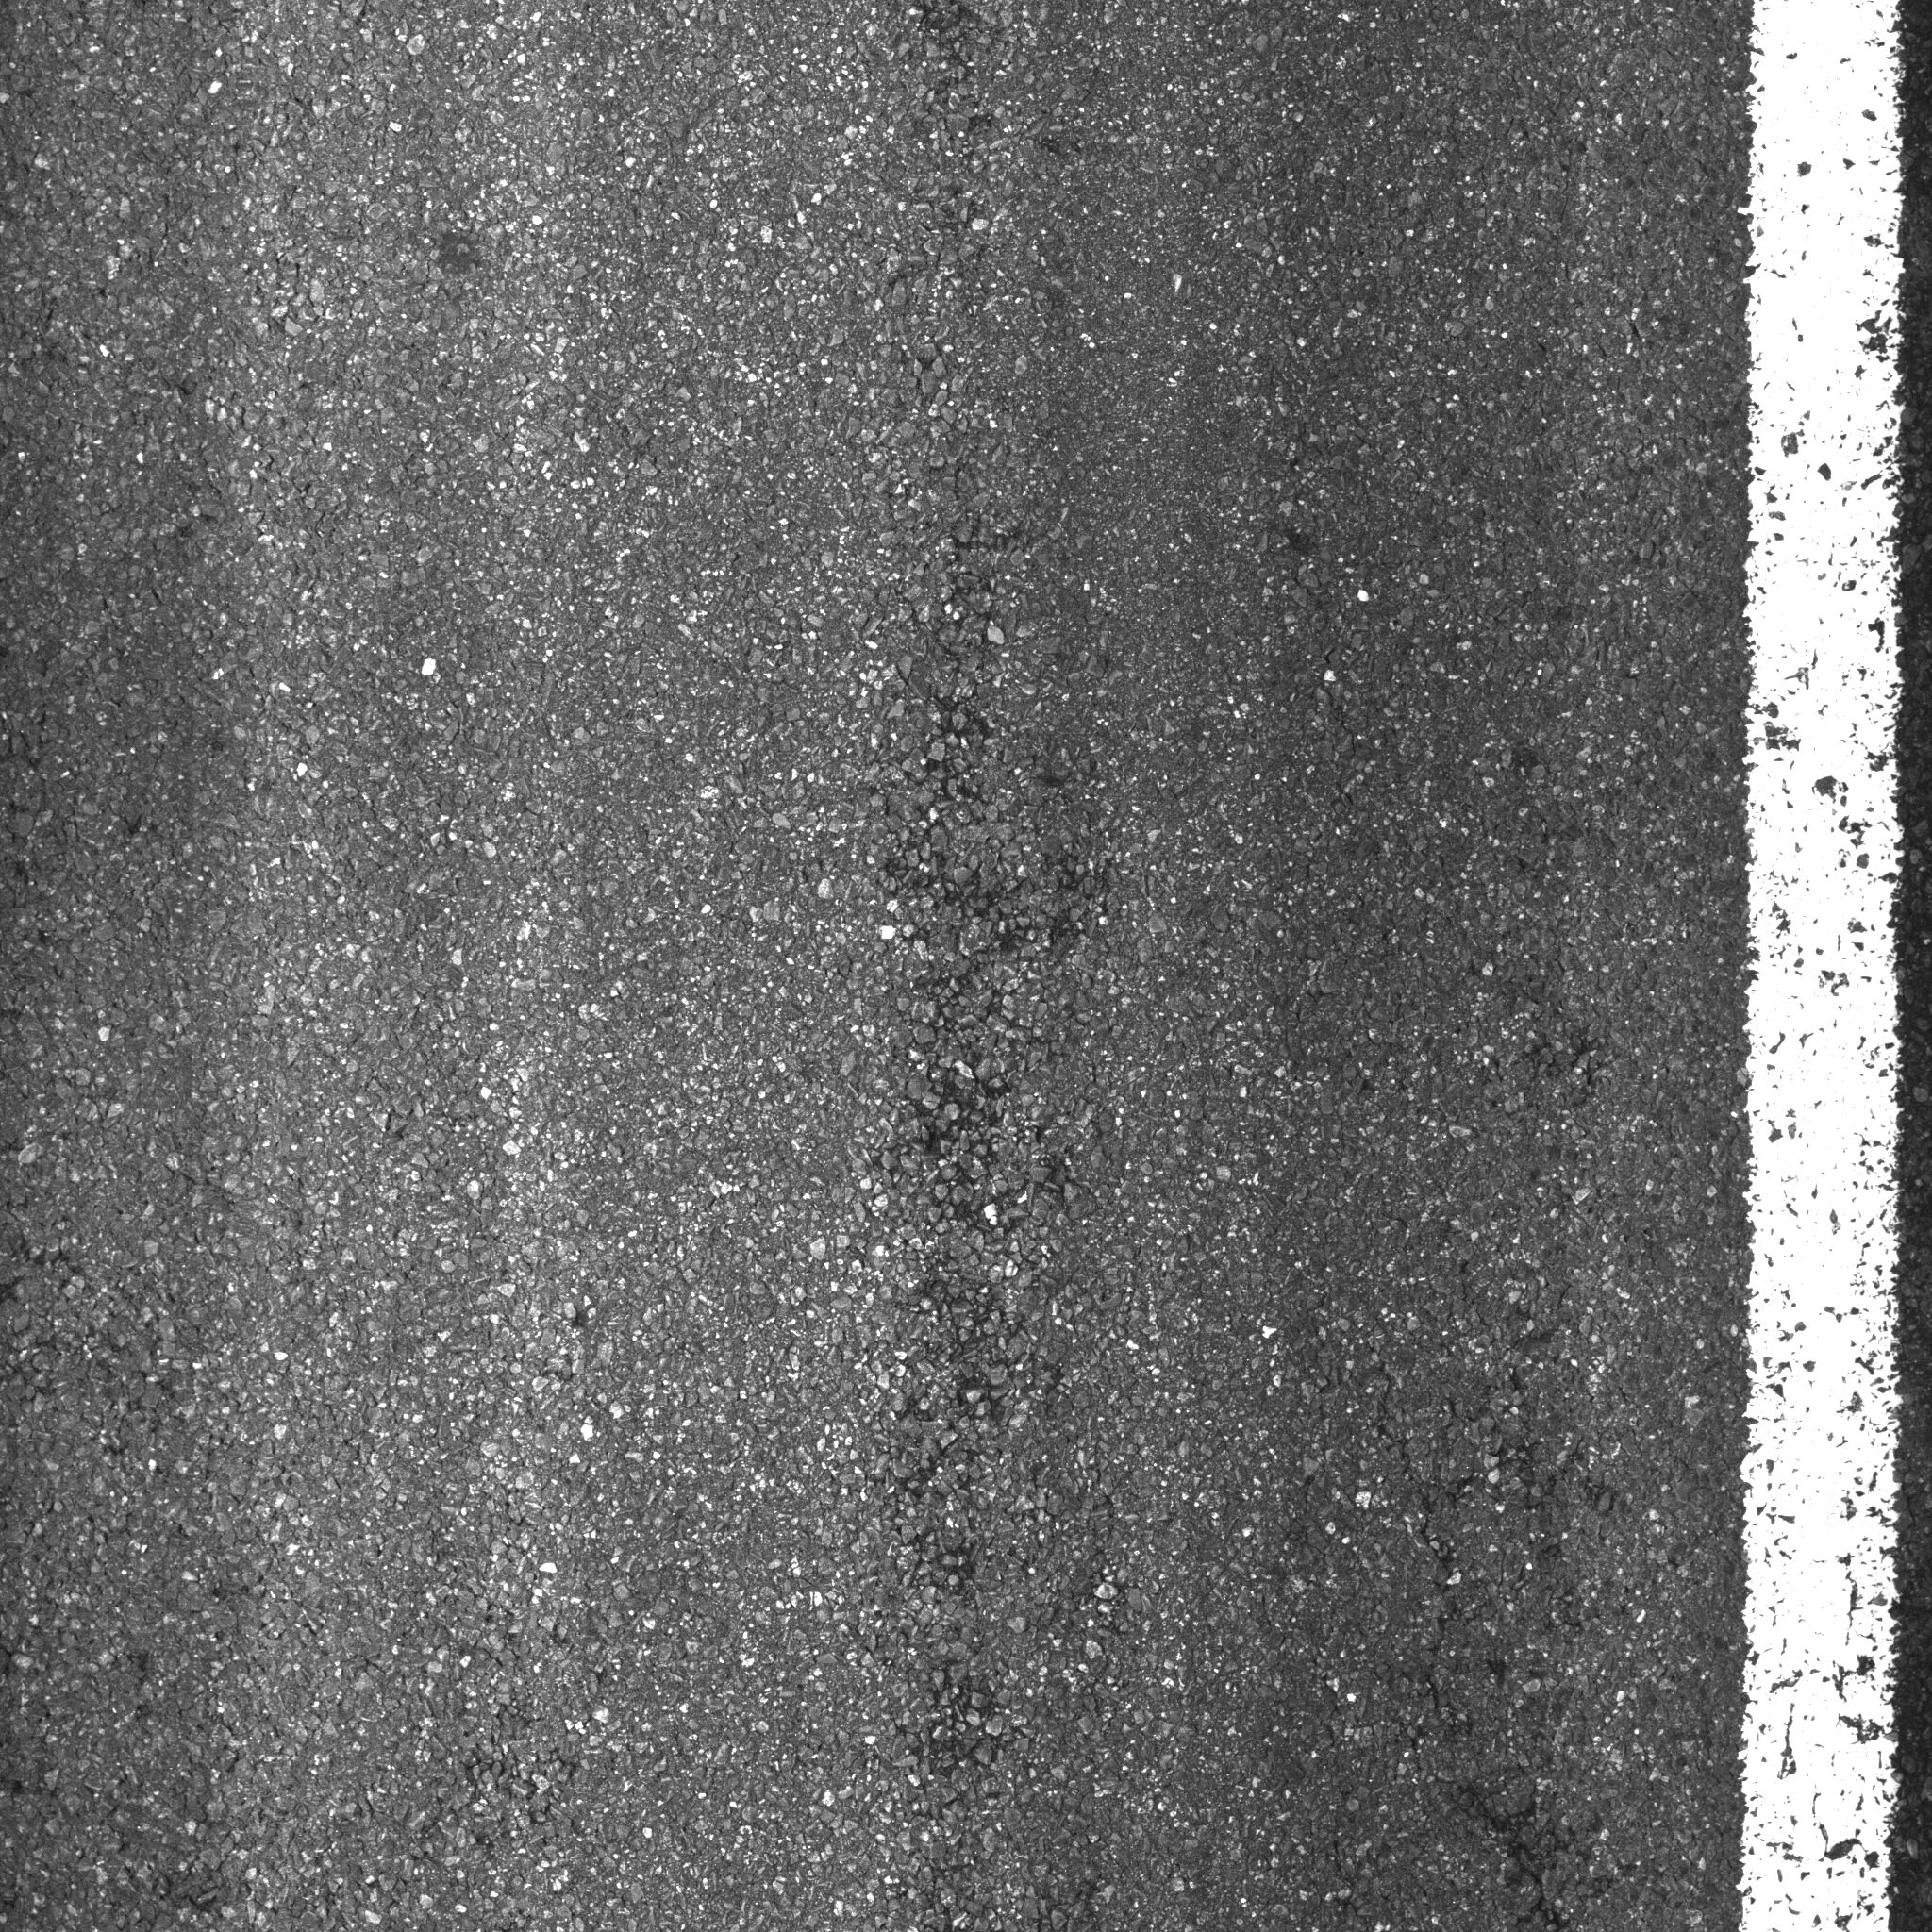longitudinal: (851, 11, 1095, 1780), (1343, 1217, 1631, 1921)
